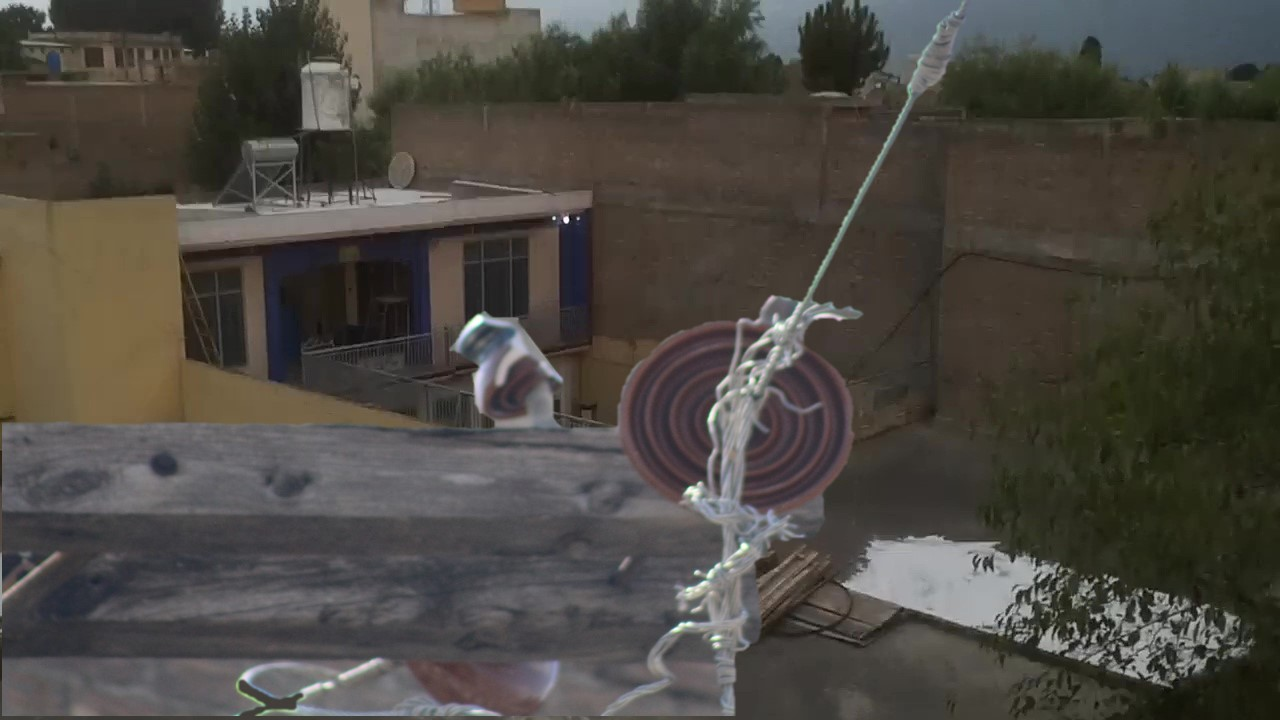defect_pin: (448, 300, 573, 434)
insulator_disc: (614, 310, 863, 516)
